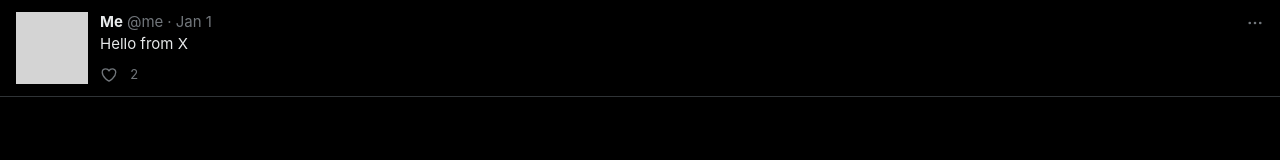
Scenario: TweetCard › offers Delete, and not Follow, on the user's own tweet
Click the button named "More".
click(1255, 23)  # box [1238,6,1272,40]
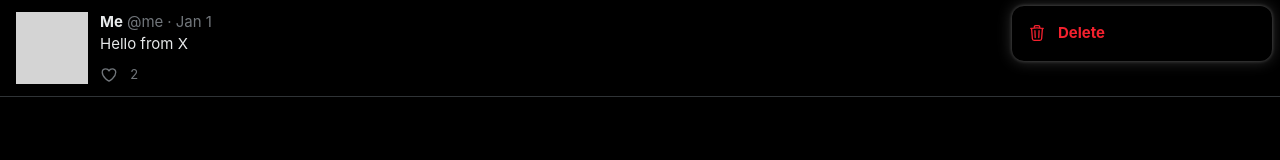
Expected: the button "Delete" is shown, [1012,10,1272,56]
